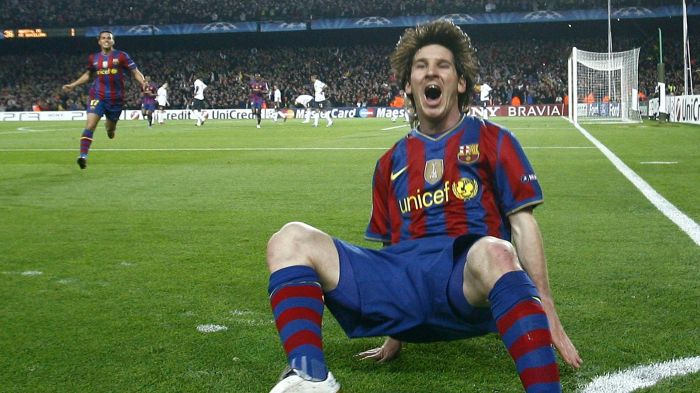soccer player: (259, 16, 588, 393), (58, 30, 144, 174), (309, 70, 335, 129), (245, 69, 269, 129), (187, 73, 210, 129), (475, 76, 494, 121), (140, 74, 157, 123), (273, 82, 288, 121), (157, 78, 169, 123)
